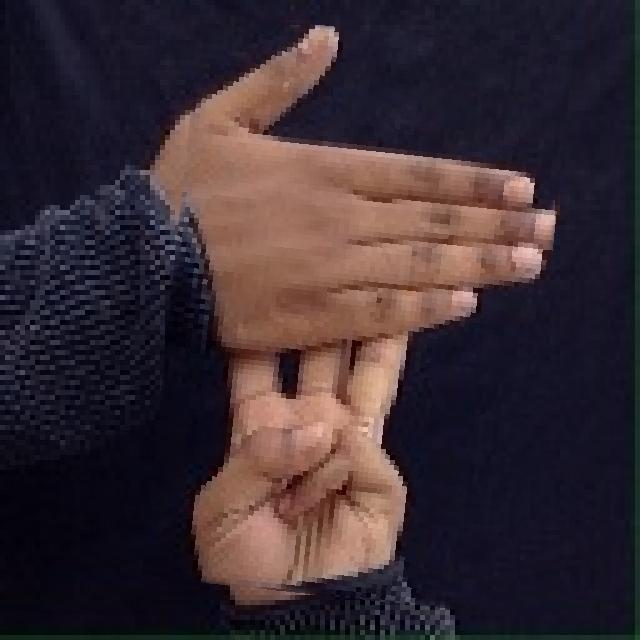M: (156, 21, 559, 606)
